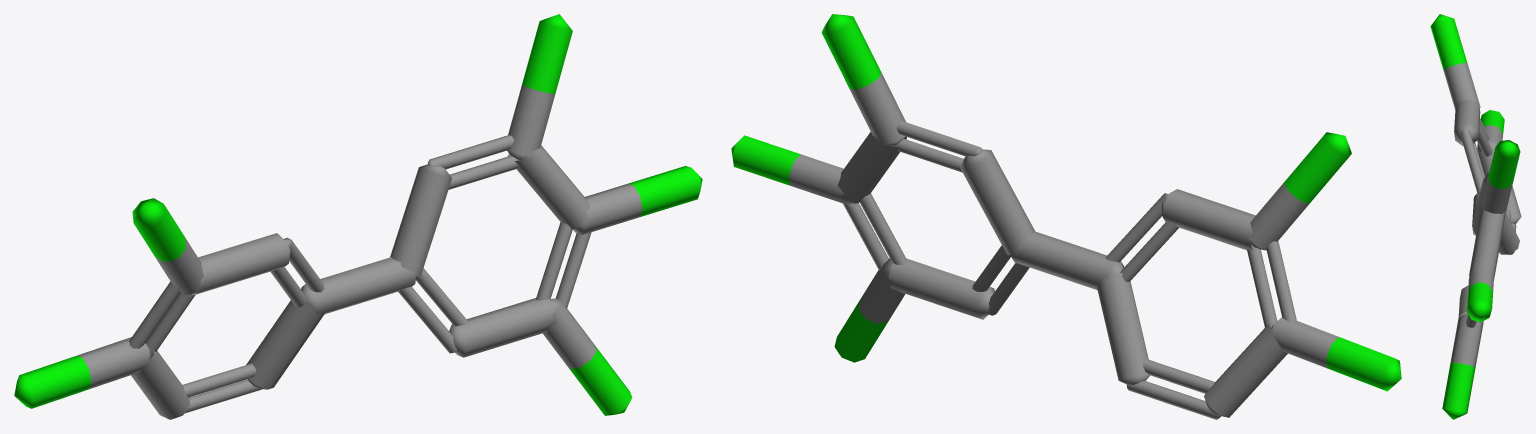
Rendered from pentach.glb.
3 views of the same model, side by side, from view 1: azimuth 30°, elevation 25°; view 2: azimuth 150°, elevation 25°; view 3: azimuth 270°, elevation 25° (orthographic). The views are drawn at different scales.
Visible parts, largest first — view 1: node-geom16; view 2: node-geom16; view 3: node-geom16.
Part boxes in pixels (x1=…): node-geom16: x1=14, y1=14, x2=702, y2=419; node-geom16: x1=731, y1=14, x2=1401, y2=419; node-geom16: x1=1430, y1=14, x2=1521, y2=419.
Bounding box in the file's own units: 10.9 × 5.77 × 1.78.
